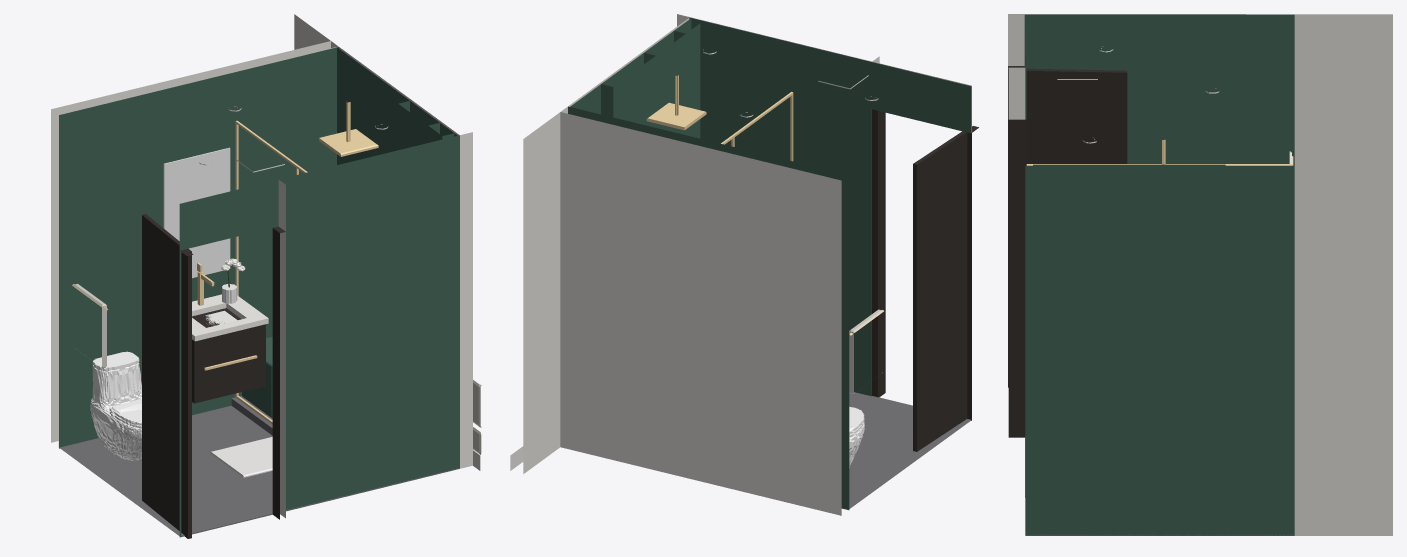
File: CBATH.glb
The picture shows the model from 3 angles, left to right: view 1: azimuth 30°, elevation 25°; view 2: azimuth 150°, elevation 25°; view 3: azimuth 270°, elevation 25°; orthographic projection. The views are drawn at different scales.
Visible parts, largest first — view 1: WEB_CBATH; view 2: WEB_CBATH; view 3: WEB_CBATH.
Boxes of the visible parts, x1,y1,x2,y2 form: WEB_CBATH: [51, 14, 481, 538]; WEB_CBATH: [510, 14, 978, 515]; WEB_CBATH: [1008, 14, 1392, 535].
Size of the model in its own units: 2.35 by 2.5 by 2.36.
